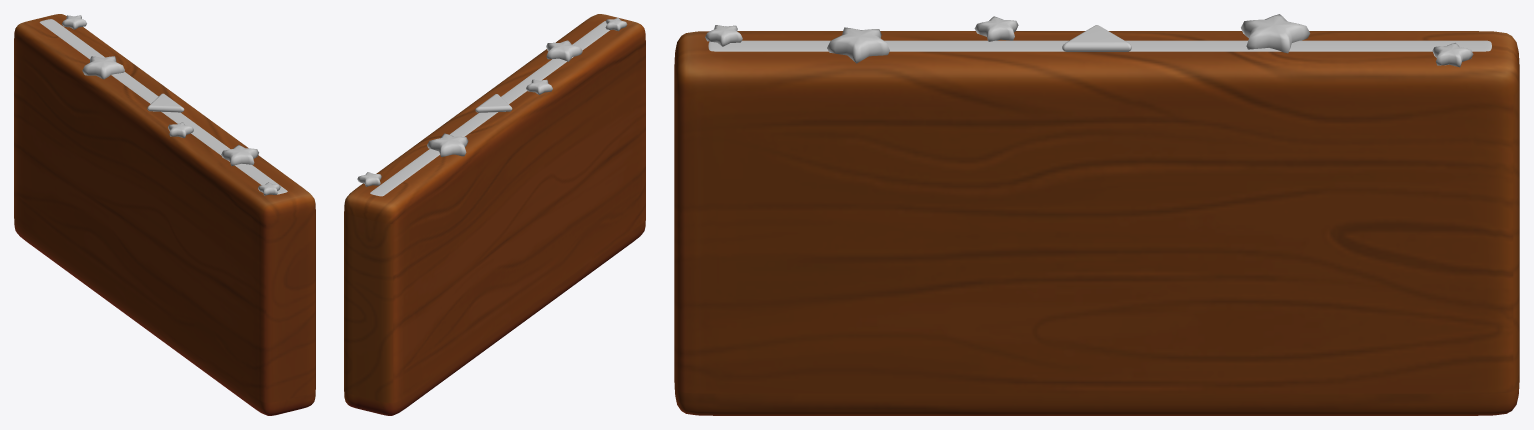
File: wall_4.fbx
3 views of the same model, side by side, from view 1: azimuth 30°, elevation 25°; view 2: azimuth 150°, elevation 25°; view 3: azimuth 270°, elevation 25° (orthographic). The views are drawn at different scales.
Visible parts, largest first — view 1: wall_4, lego_point, stars, triangle; view 2: wall_4, lego_point, stars, triangle; view 3: wall_4, lego_point, stars, triangle.
Part boxes in pixels (x1,y1,x2,y2): wall_4: (14, 14, 315, 415); lego_point: (39, 19, 287, 194); stars: (62, 15, 280, 195); triangle: (147, 93, 184, 112); wall_4: (344, 14, 645, 415); lego_point: (370, 21, 609, 196); stars: (357, 18, 627, 186); triangle: (475, 94, 512, 112); wall_4: (674, 31, 1519, 415); lego_point: (708, 40, 1491, 51); stars: (705, 14, 1473, 67); triangle: (1062, 25, 1131, 51).
Bounding box in the file's own units: 0.5 × 1.94 × 4.02.
